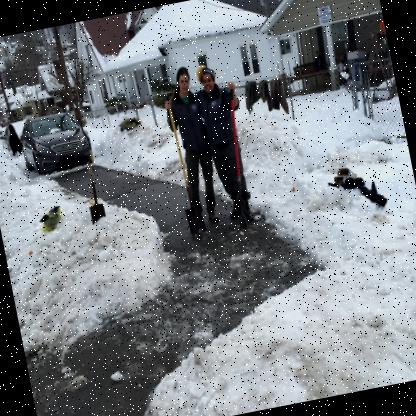Car: (17, 108, 94, 176), (3, 118, 34, 152), (0, 120, 6, 143)
